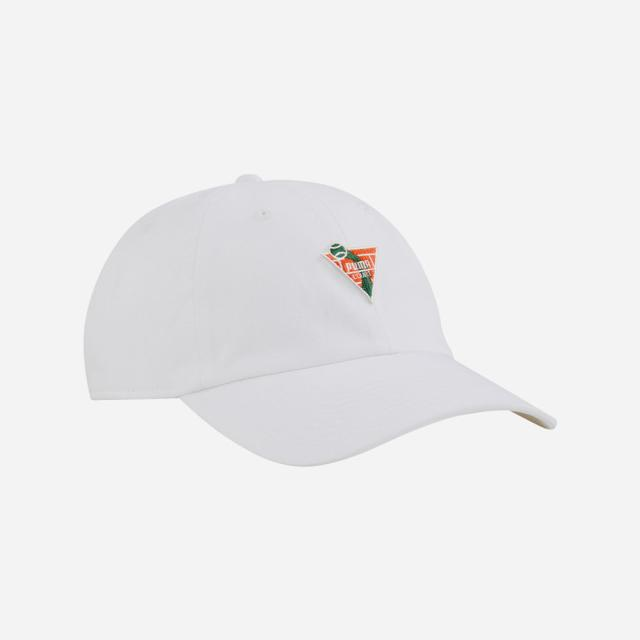Nonhelmet: (80, 171, 559, 469)
